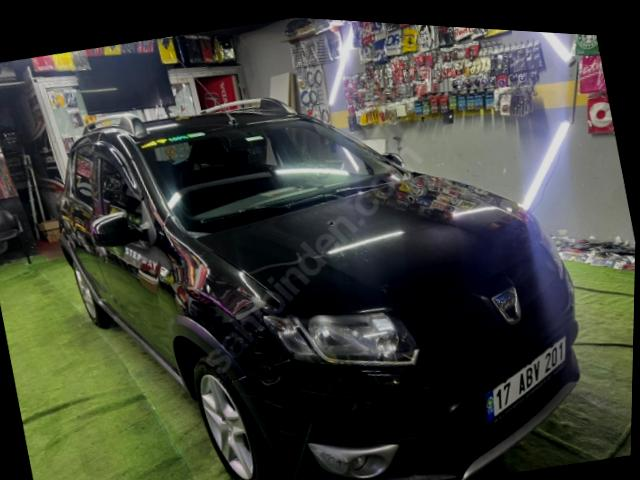plaka: (483, 339, 565, 423)
